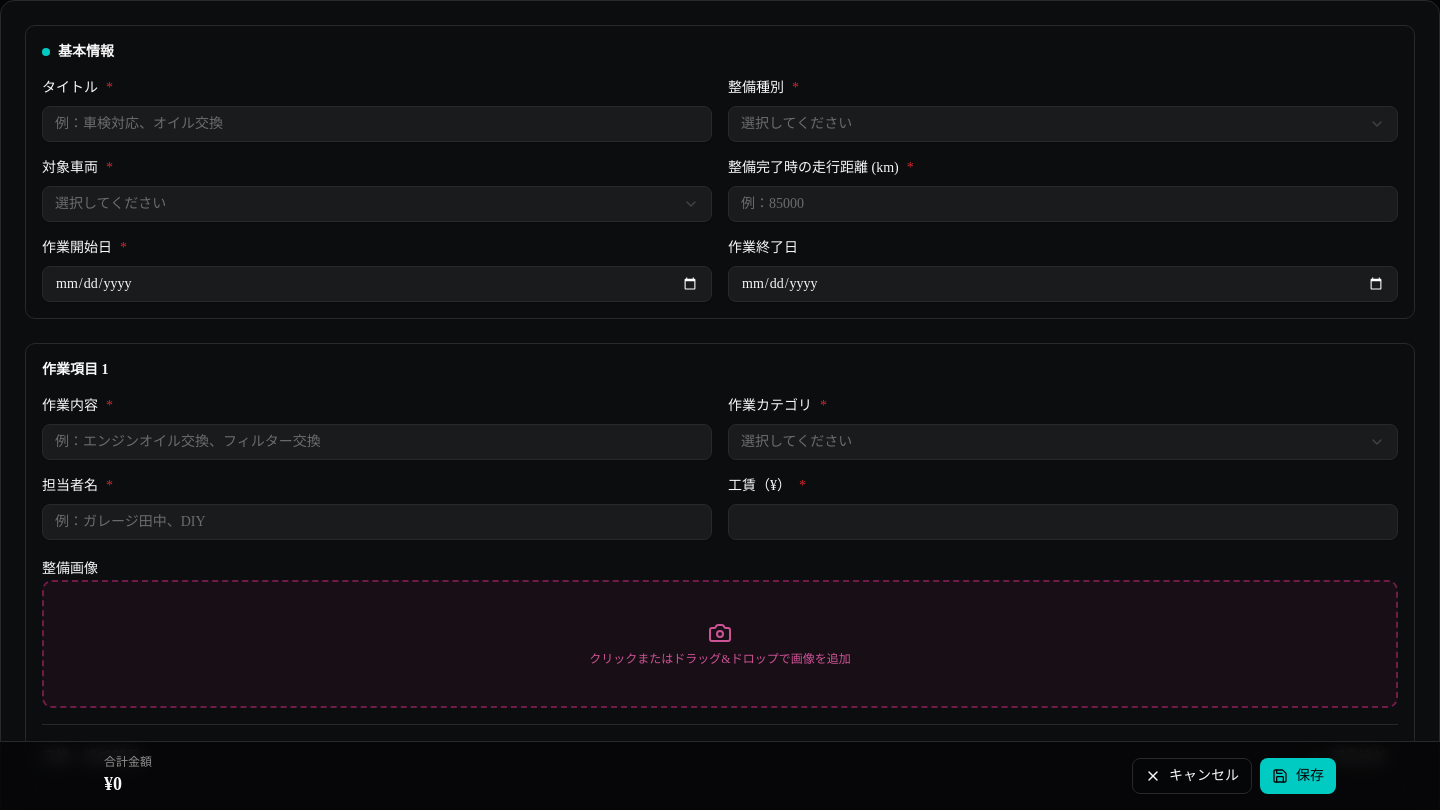
Test case: MaintenanceRecordRegisterContent › 確認ダイアログでキャンセルすると遷移せず入力内容が保持される
Type "車検対応" into the field with placeholder "例：車検対応、オイル交換".
click(377, 124); type("車検対応")  # box [42,106,712,142]
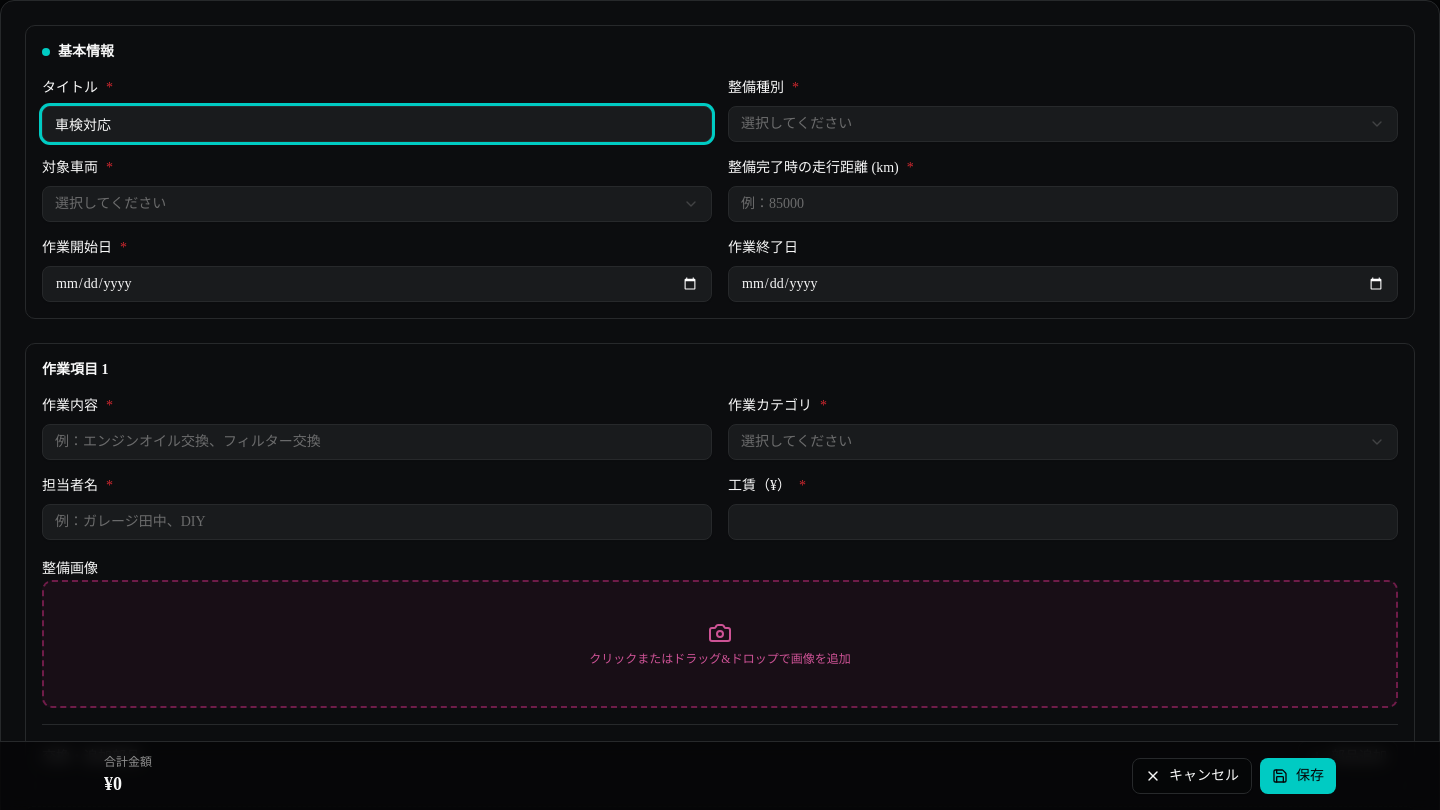
Click the button "キャンセル".
click(1192, 776)  # box [1132,758,1252,794]
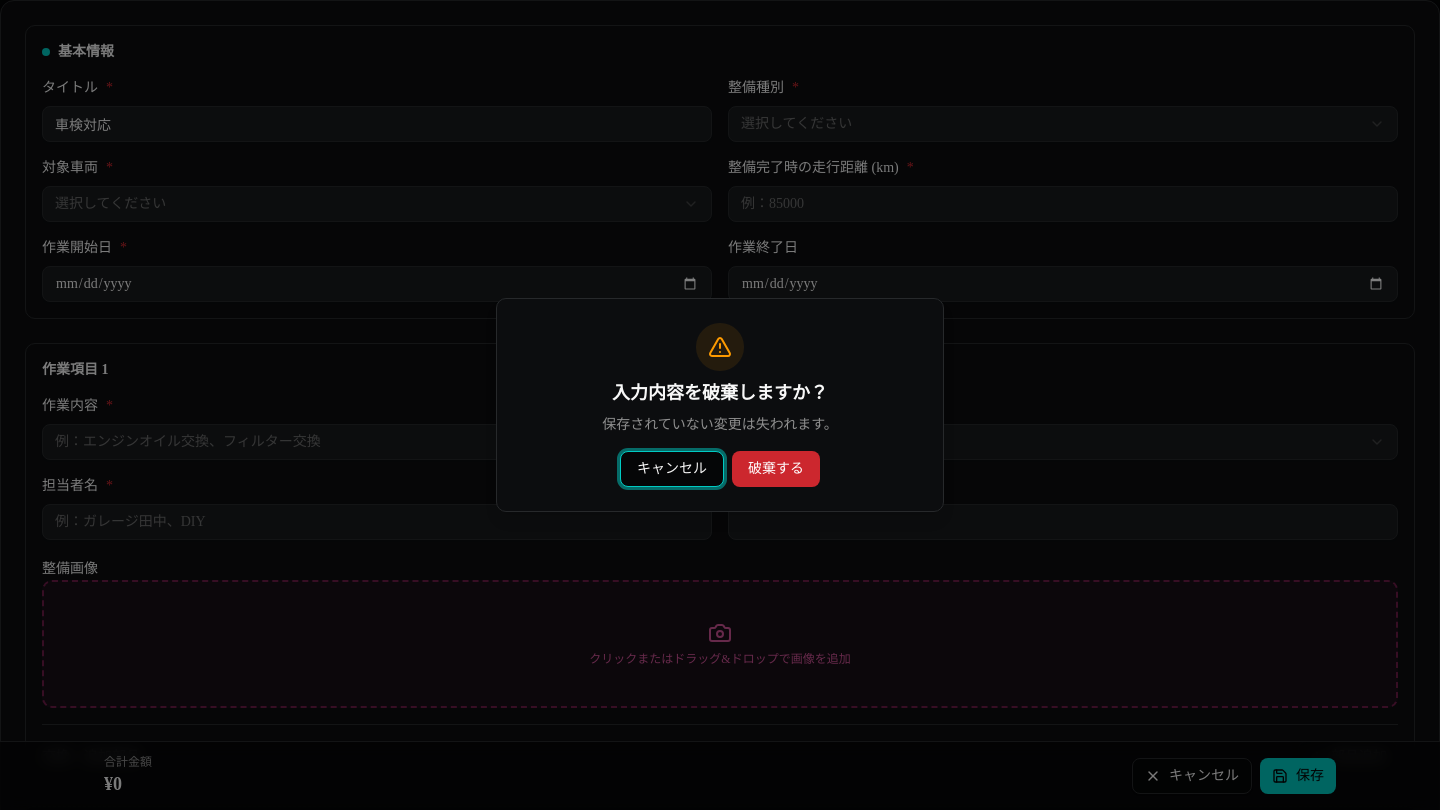
Click the button "キャンセル".
click(672, 469)  # box [620,451,724,487]
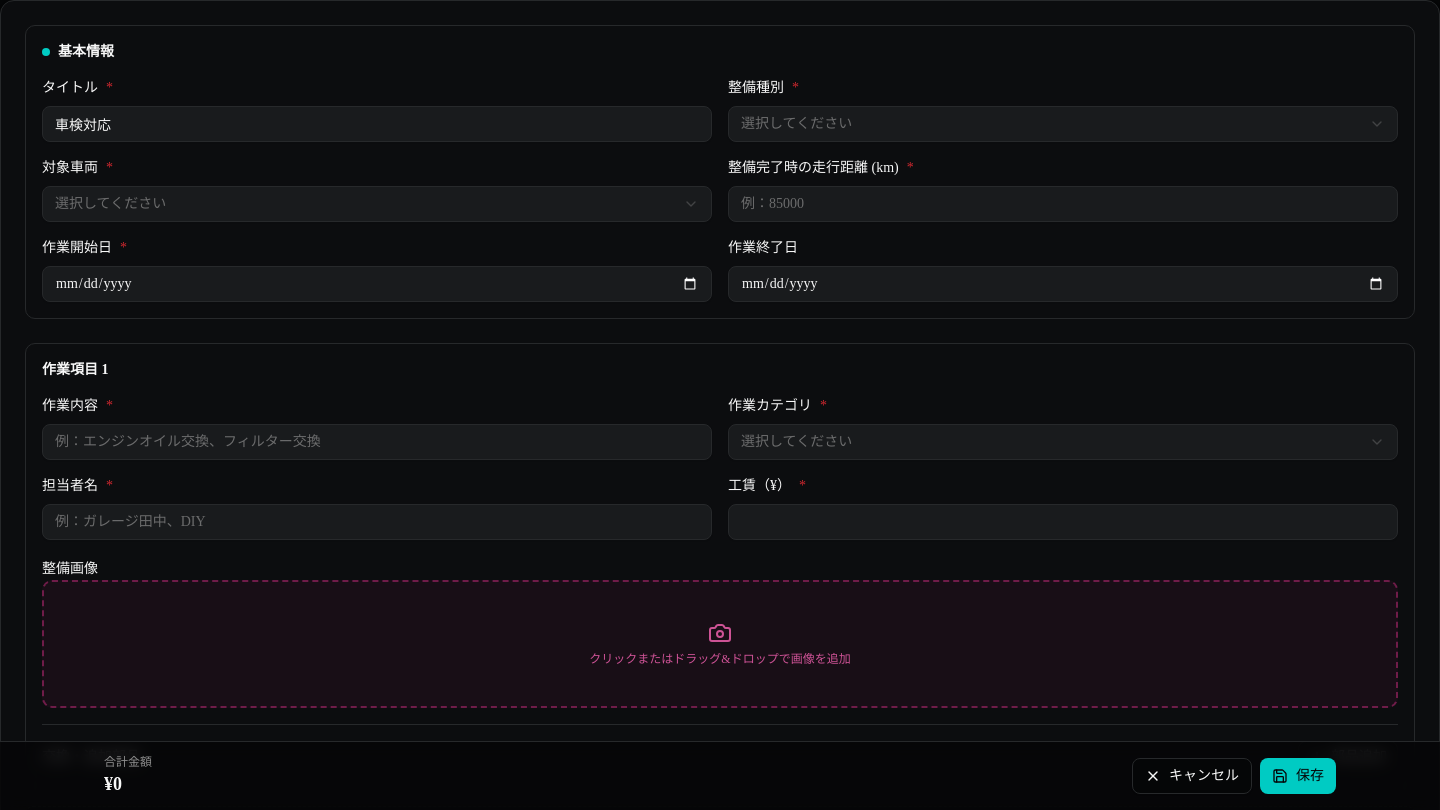
Expected: the heading "入力内容を破棄しますか？" is gone
